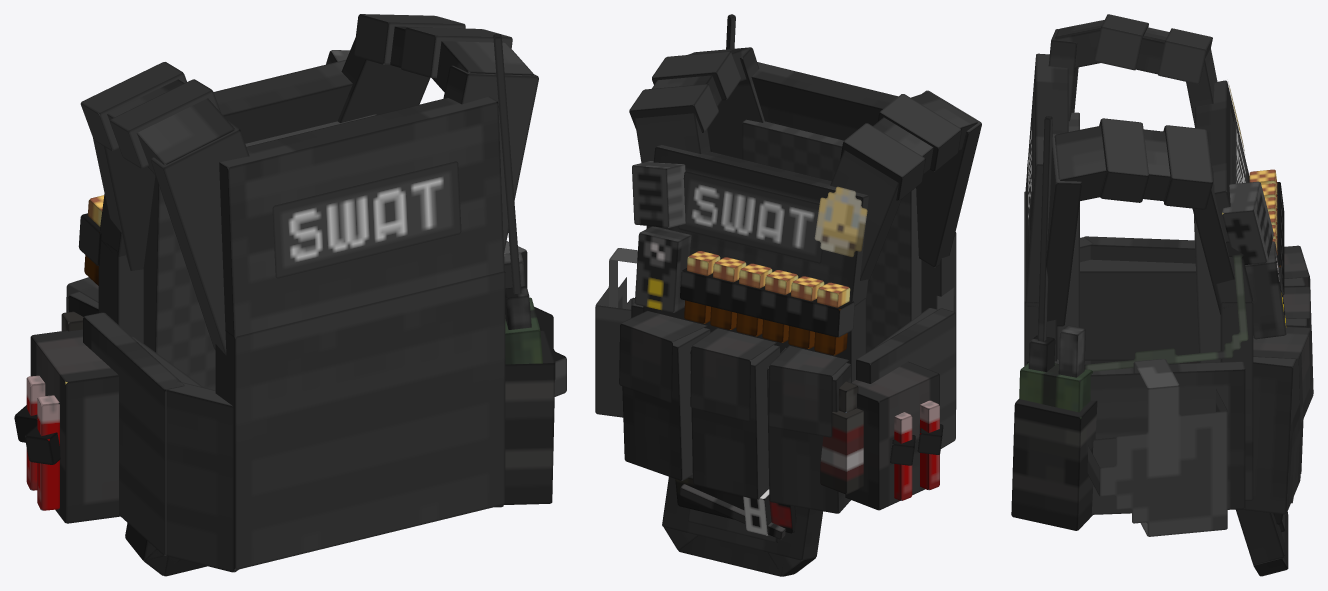
Rendered from swat_kit.obj.
The picture shows the model from 3 angles, left to right: view 1: azimuth 30°, elevation 25°; view 2: azimuth 150°, elevation 25°; view 3: azimuth 270°, elevation 25°; orthographic projection. The views are drawn at different scales.
Parts seen in each view (by area): view 1: plane; view 2: plane; view 3: plane.
Boxes of the visible parts, x1,y1,x2,y2 form: plane: (14, 14, 566, 576); plane: (595, 14, 981, 576); plane: (1011, 14, 1313, 576).
Size of the model in its own units: 0.8753 by 1.03 by 0.5767.
